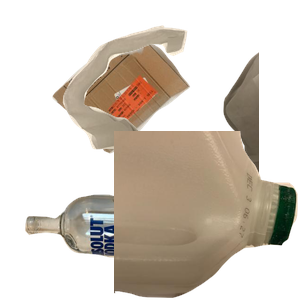cardboard: (50, 38, 233, 184)
glass: (22, 192, 234, 300)
plastic: (114, 131, 300, 300)
trash: (60, 23, 300, 203)
